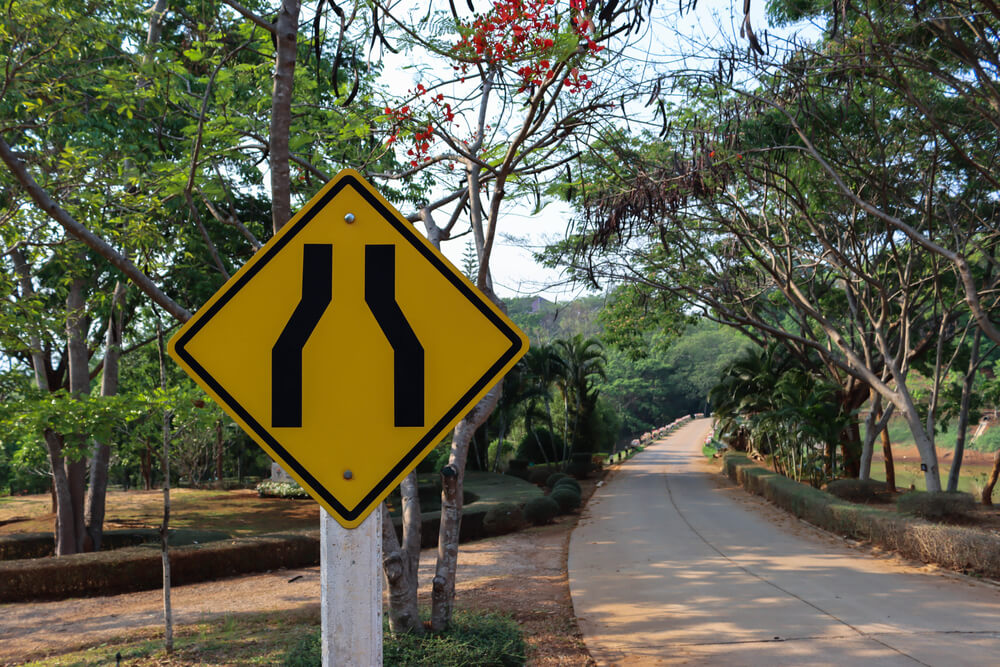narrow-road: (166, 169, 529, 528)
